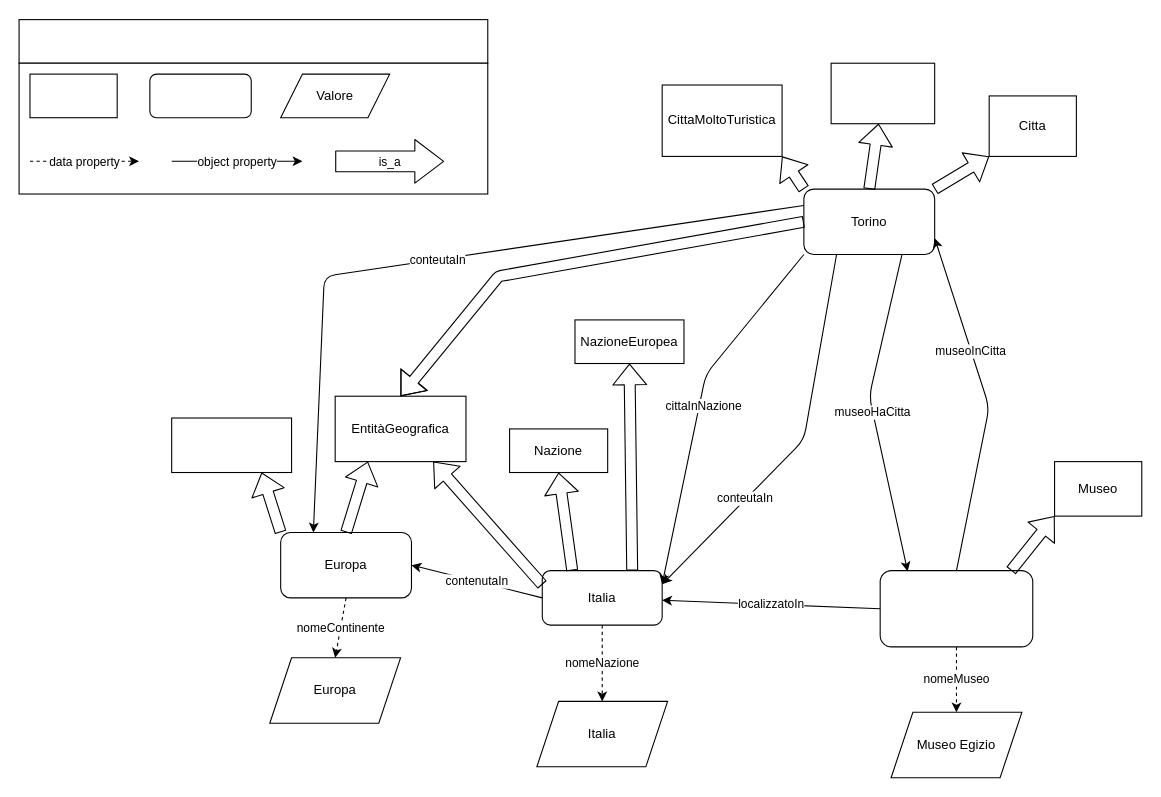
The diagram is 1161 pixels wide and 797 high, and some of its shapes have lost their labels. Here are the shapes that lost their labels. From the top down, the centre of each, then its label:
At [253,41]: "LEGENDA".
At [73,95]: "Classe".
At [200,95]: "Individuo".
At [882,93]: "CittaTuristica".
At [231,445]: "Continente".
At [956,608]: "MuseoEgizio".
